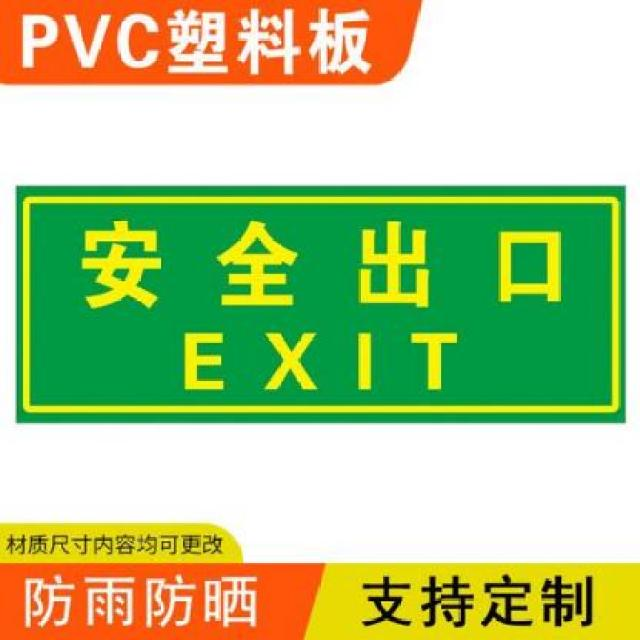exit_sign: (9, 177, 632, 442)
